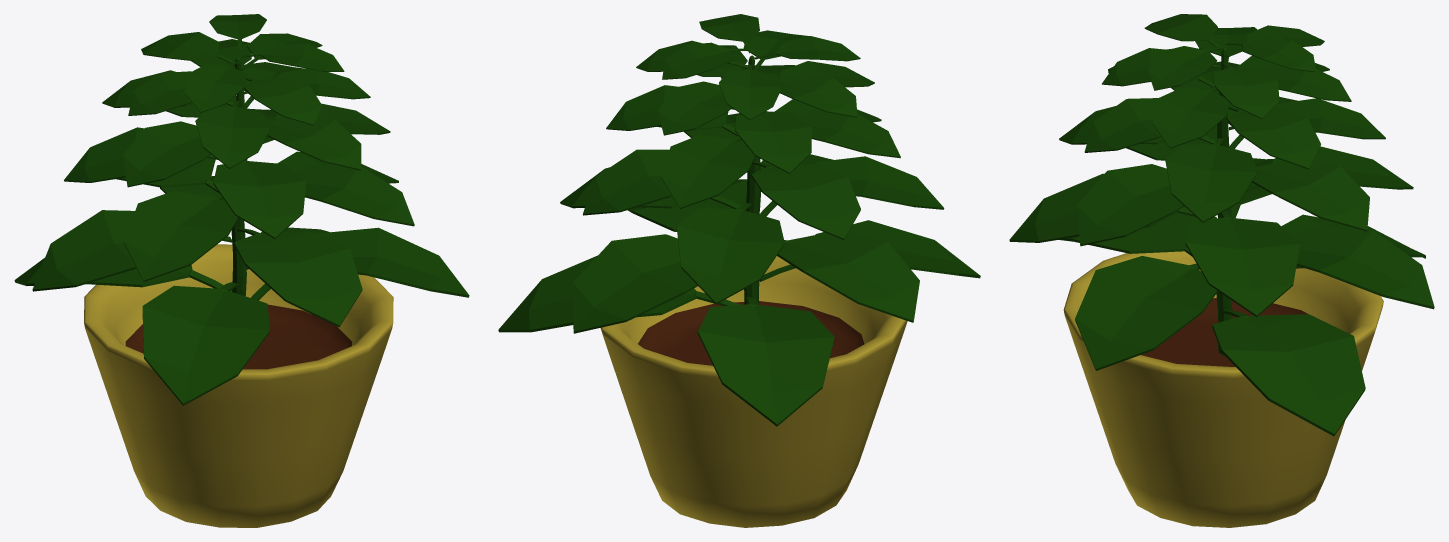
Rendered from Plant_1.fbx.
3 views of the same model, side by side, from view 1: azimuth 30°, elevation 25°; view 2: azimuth 150°, elevation 25°; view 3: azimuth 270°, elevation 25° (orthographic).
Visible parts, largest first — view 1: Plant_1.002; view 2: Plant_1.002; view 3: Plant_1.002.
Part boxes in pixels (left/top/right/bottom): Plant_1.002: left=14, top=14, right=469, bottom=527; Plant_1.002: left=498, top=14, right=980, bottom=527; Plant_1.002: left=1009, top=14, right=1434, bottom=527.
Size of the model in its own units: 20.99 by 23.55 by 19.87.
